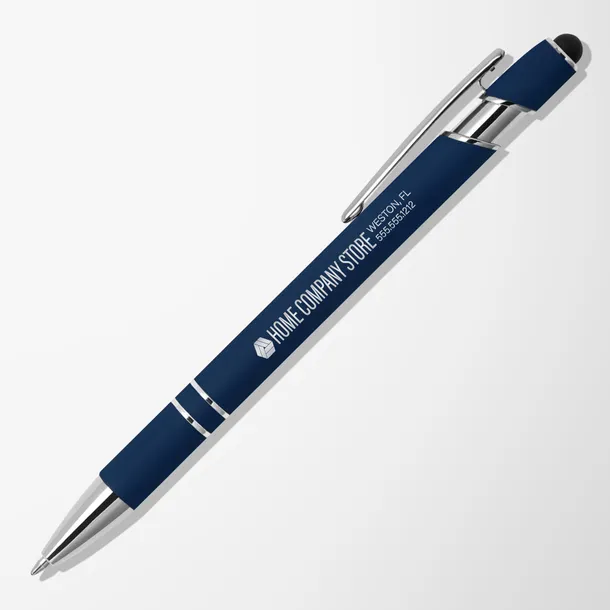pen: (20, 16, 588, 596)
